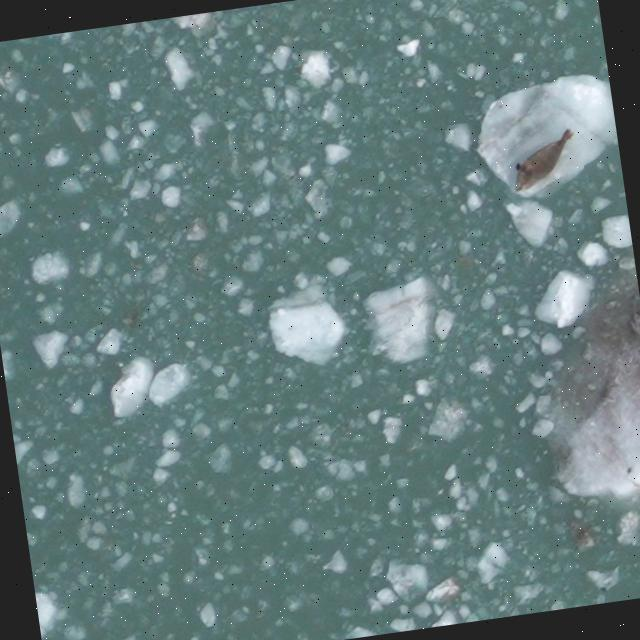seal: (500, 124, 587, 199)
